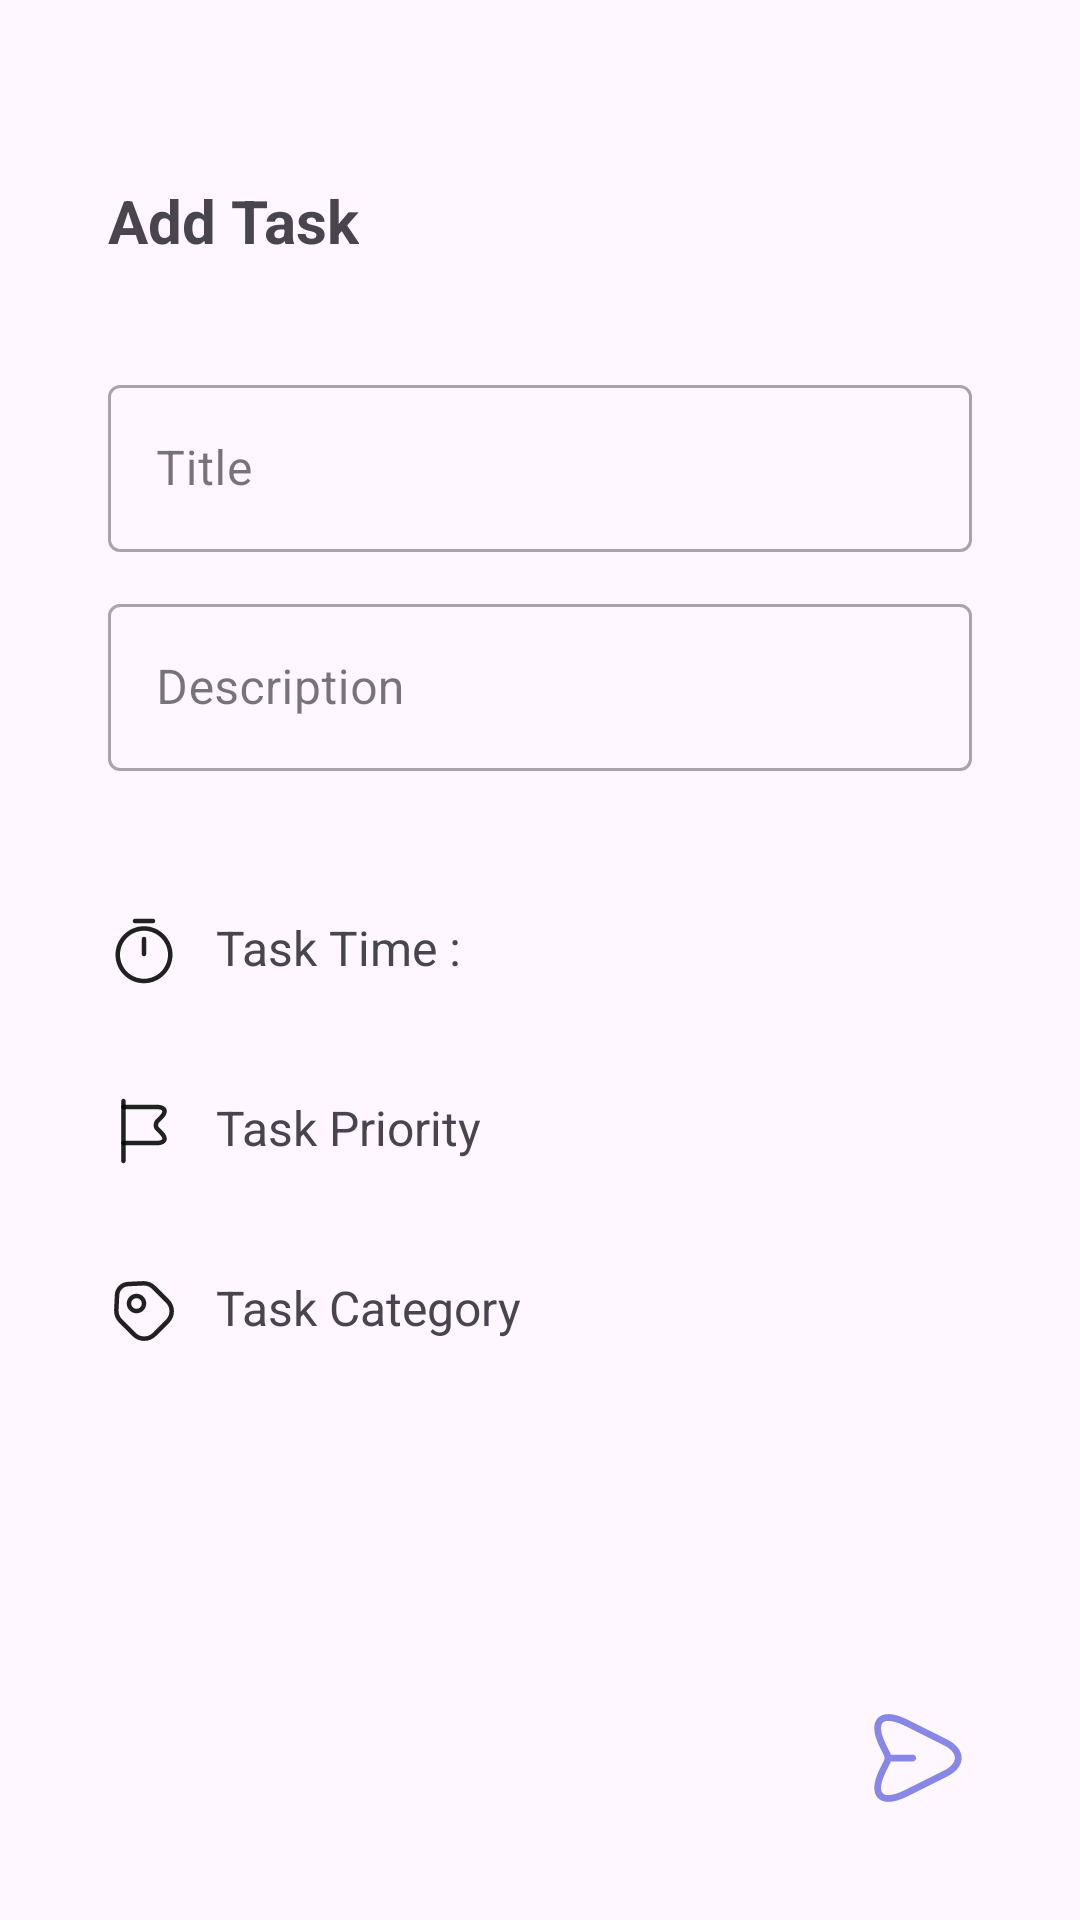

Named icons in this screenshot (1080 × 1920) and their bounding boxes, [x1,y1,x2,y2]:
next button: [874,1714,962,1802]
